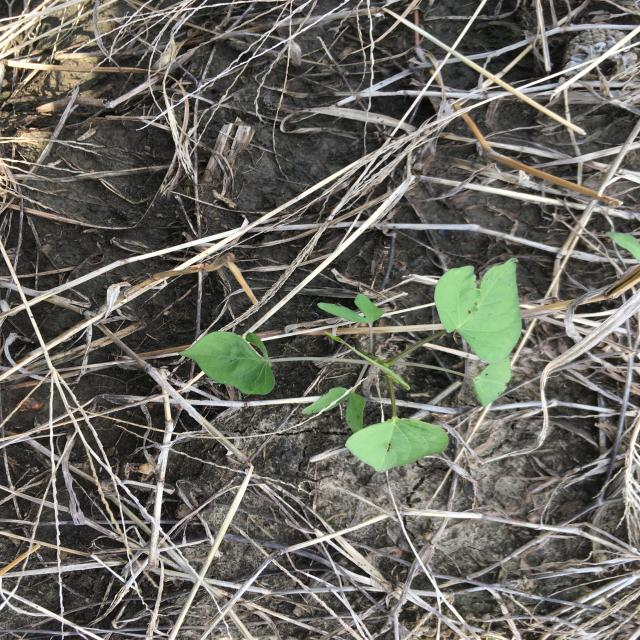MorningGlory: (175, 256, 524, 475)
